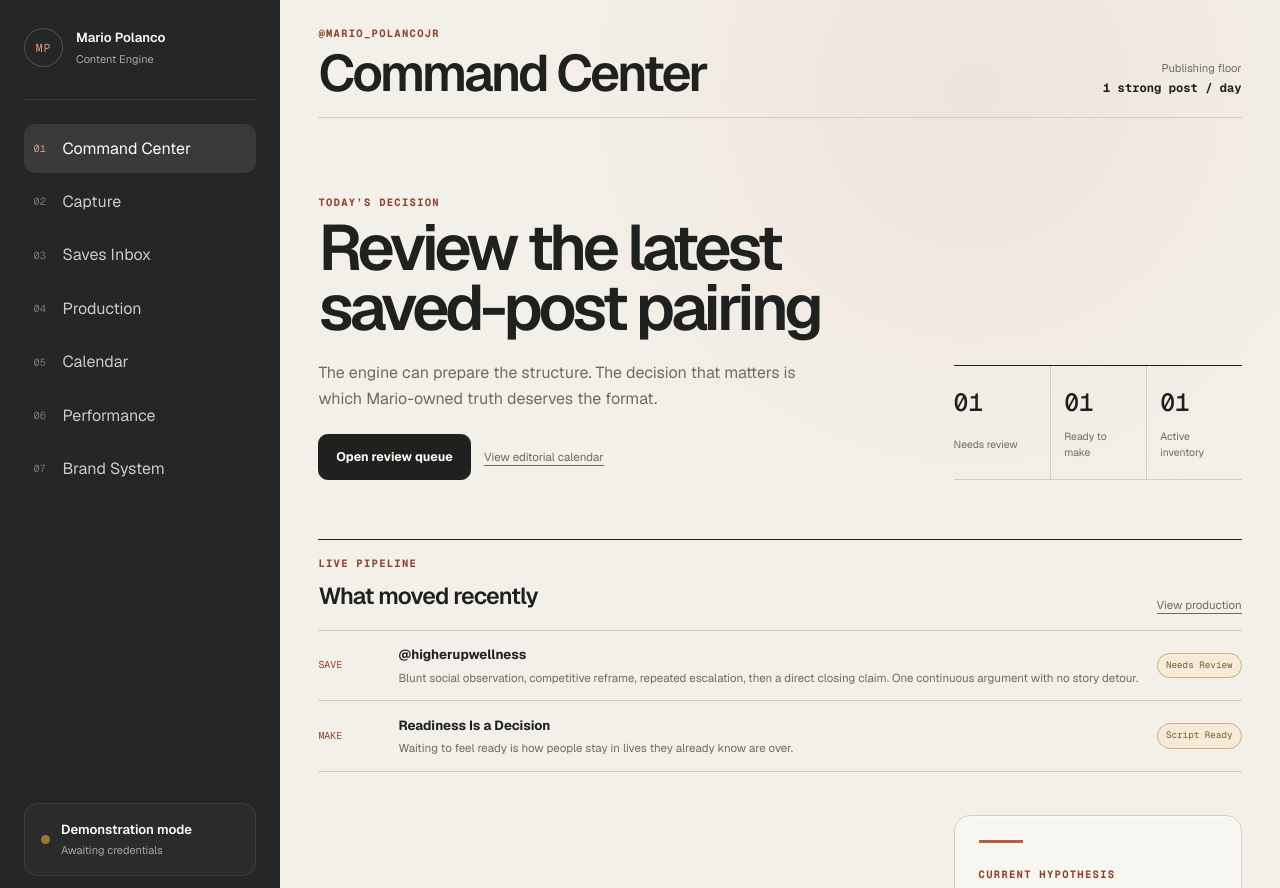
Production package instructions › shows an optional CTA only when the package includes one
Step 1. Click the button "04 Production" → [140, 309], box x1=24 y1=284 x2=256 y2=333
(page scrolled)
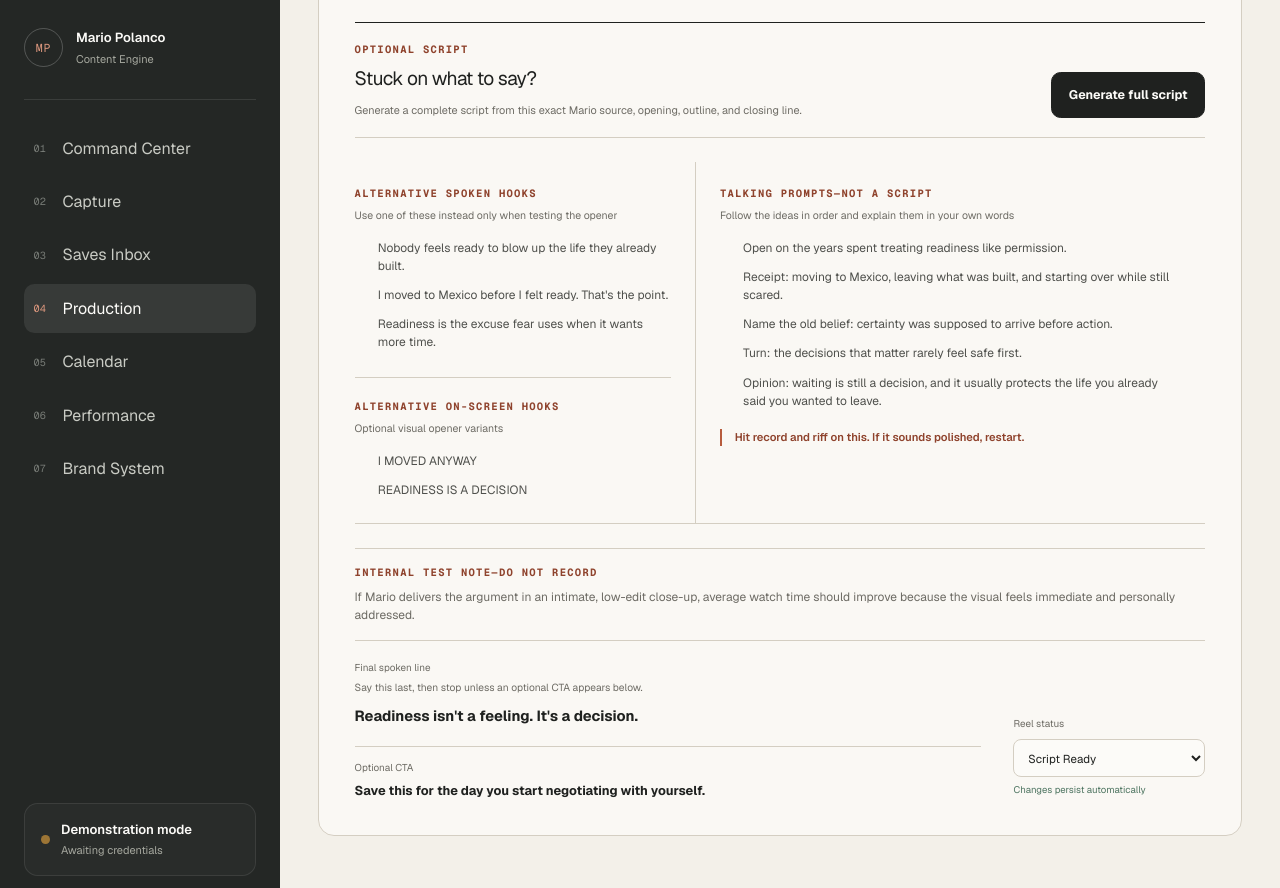
Result: the text "Optional CTA" is shown at x1=355 y1=761 x2=413 y2=774
Result: the text "Save this for the day you start negotiating with yourself." is shown at x1=355 y1=782 x2=705 y2=799
